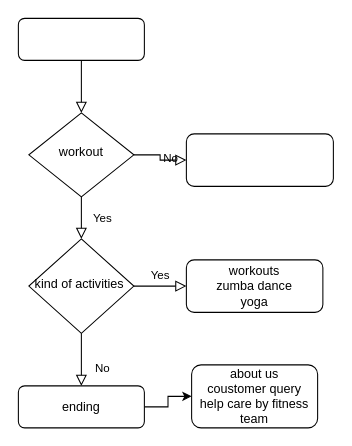
Some shapes in this 352 by 446 pixel diagram are drawn without their labels. The centre of each missing label's shape, as x and y in pixels:
"basic intermediate advance" goes at point (259, 159).
"Fitness Streak" goes at point (80, 38).
